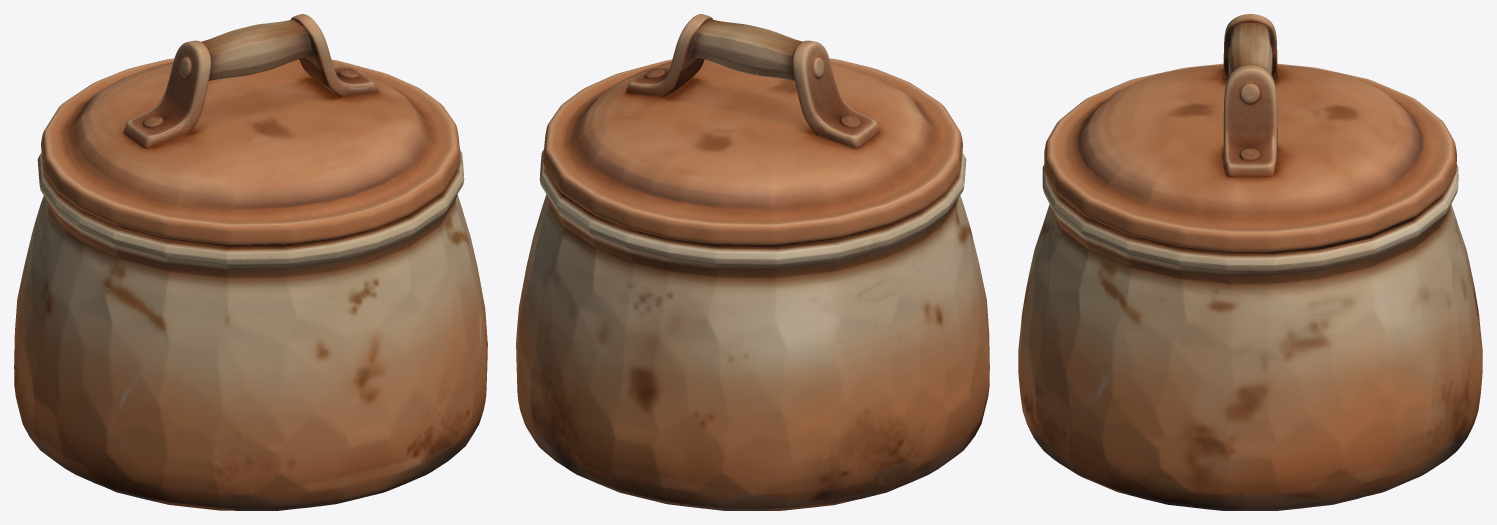
Rendered from o84_kapakli_bakir_tencere.glb.
3 views of the same model, side by side, from view 1: azimuth 30°, elevation 25°; view 2: azimuth 150°, elevation 25°; view 3: azimuth 270°, elevation 25° (orthographic). The views are drawn at different scales.
Bounding box in the file's own units: 1.9 × 1.72 × 1.9.
1 material, 1 textured.
